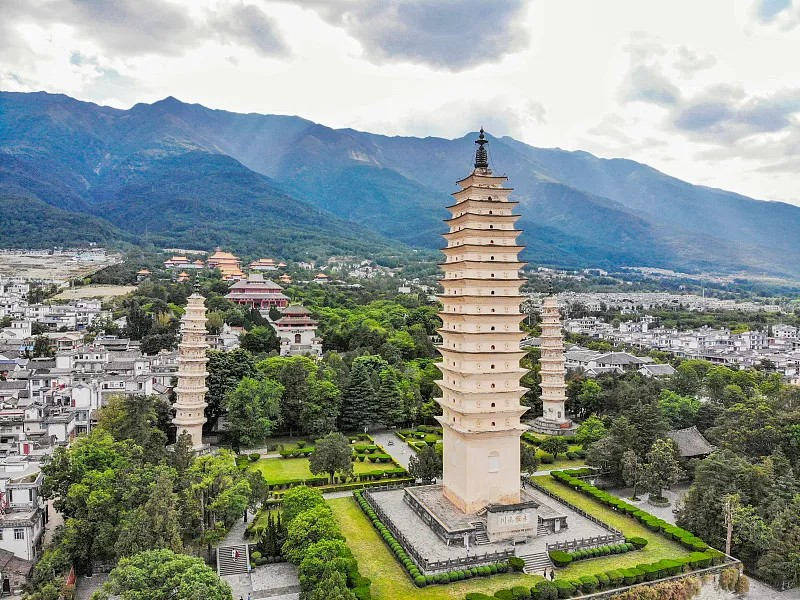ThreePagoda: (432, 127, 532, 512)
